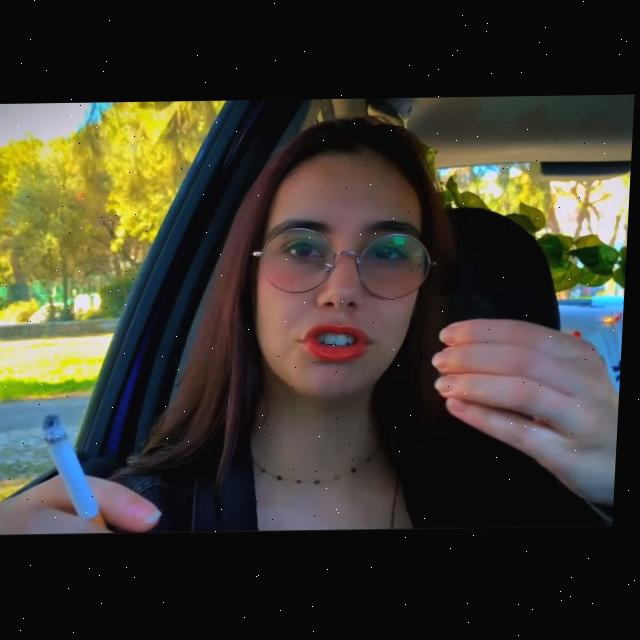cigarette: (43, 415, 118, 531)
